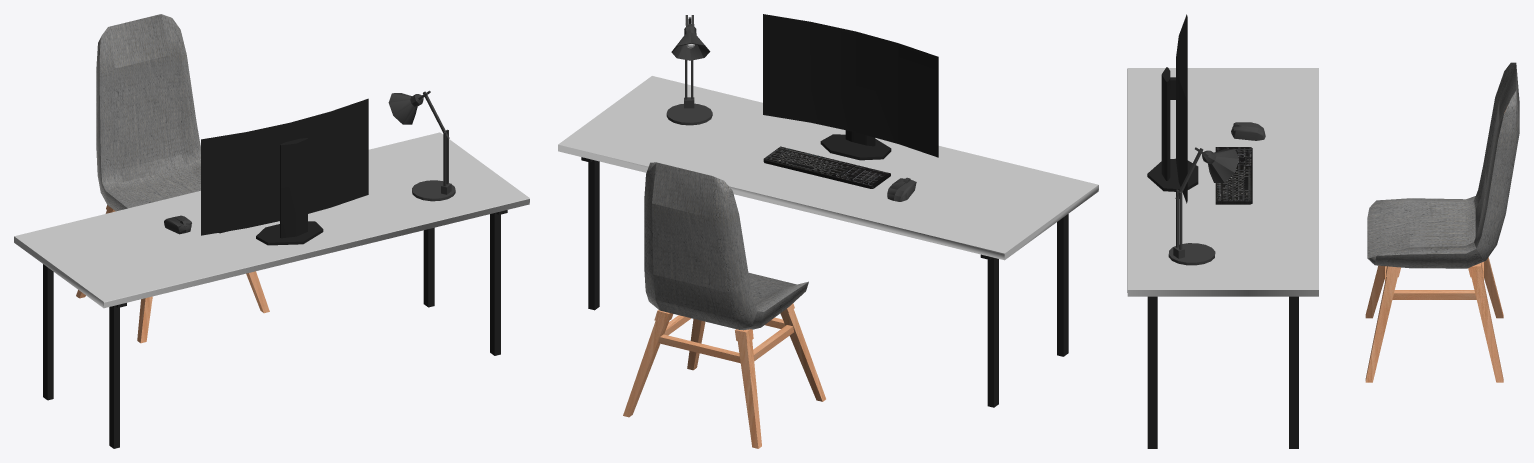
Rendered from FUR0210030.fbx.
3 renders of one model, left to right at view 1: azimuth 30°, elevation 25°; view 2: azimuth 150°, elevation 25°; view 3: azimuth 270°, elevation 25°, orthographic. The views are drawn at different scales.
Parts seen in each view (by area): view 1: smFUR0210030; view 2: smFUR0210030; view 3: smFUR0210030.
Boxes of the visible parts, left/top/right/bottom form: smFUR0210030: left=14, top=14, right=529, bottom=448; smFUR0210030: left=558, top=14, right=1098, bottom=448; smFUR0210030: left=1127, top=14, right=1519, bottom=448.
Size of the model in its own units: 234 by 142 by 175.
1 material, 1 textured.
